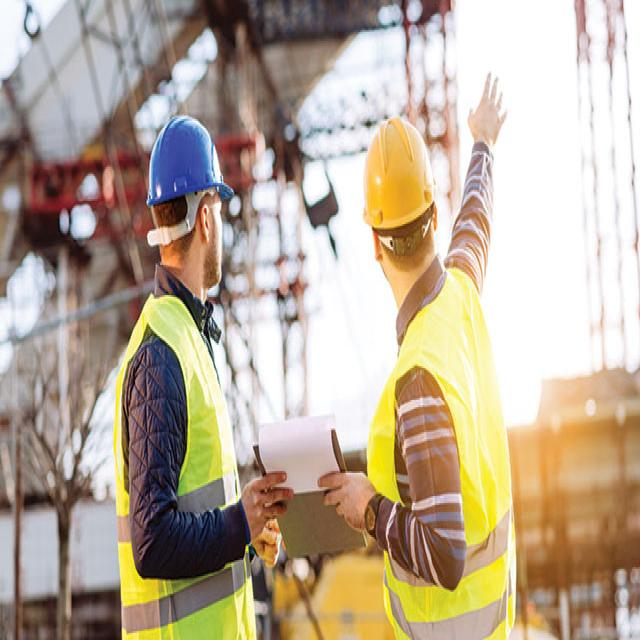Reflective-Jacket: (366, 270, 521, 640), (111, 290, 260, 640)
Safety-Helmet: (143, 108, 237, 217), (360, 108, 438, 234)
